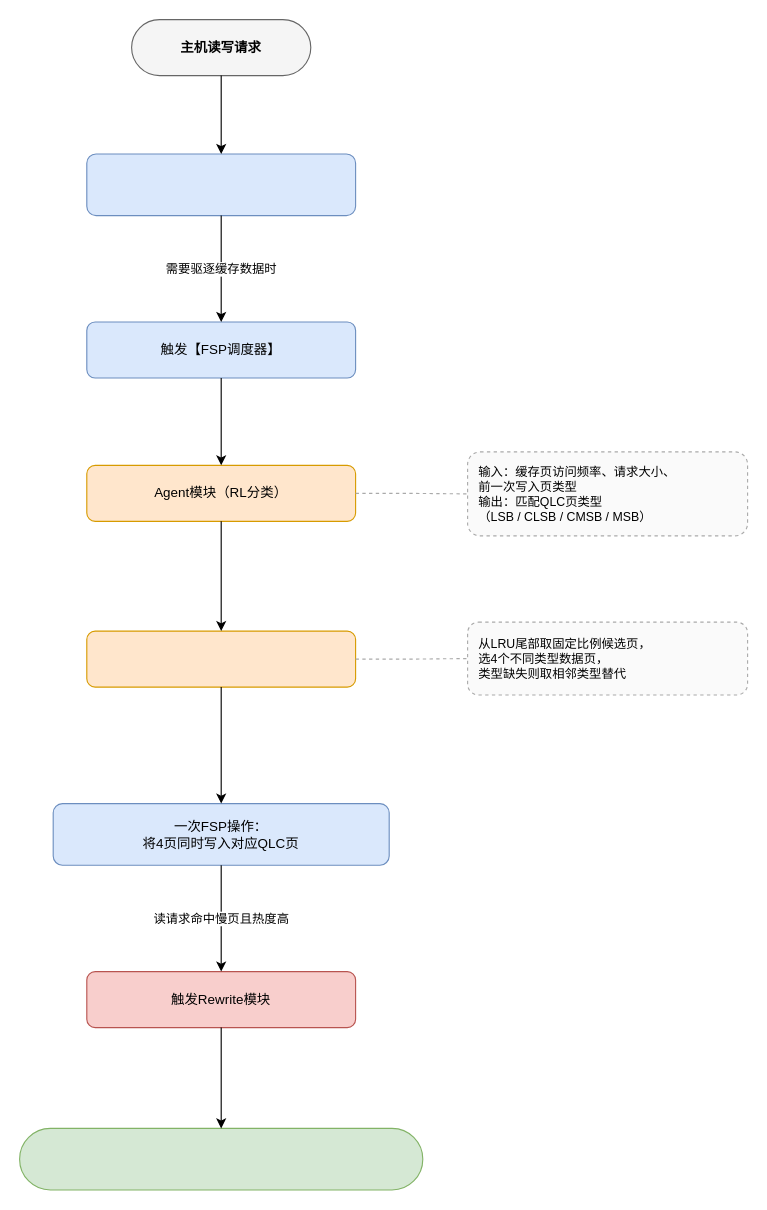
Image size: 767x1210. Some labels were removed from this diagram. The box of each missing label's shape, as (x1, y1, x2, y2) in pixels:
FTL处理 （含DRAM缓存管理、LRU）: (86, 153, 356, 216)
Group模块（FSP单元组组）: (86, 630, 356, 687)
热读数据作为脏数据放入LRU尾部 等待下次FSP单元重写至快页: (18, 1127, 423, 1190)
